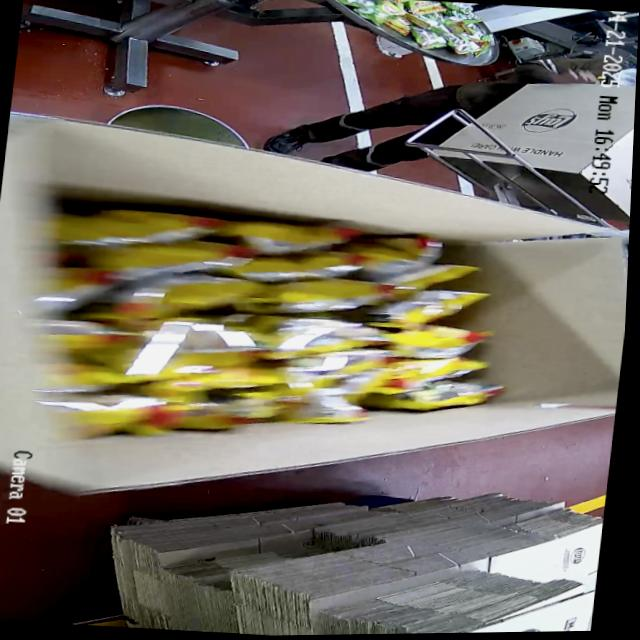SALTED: (9, 195, 526, 462)
